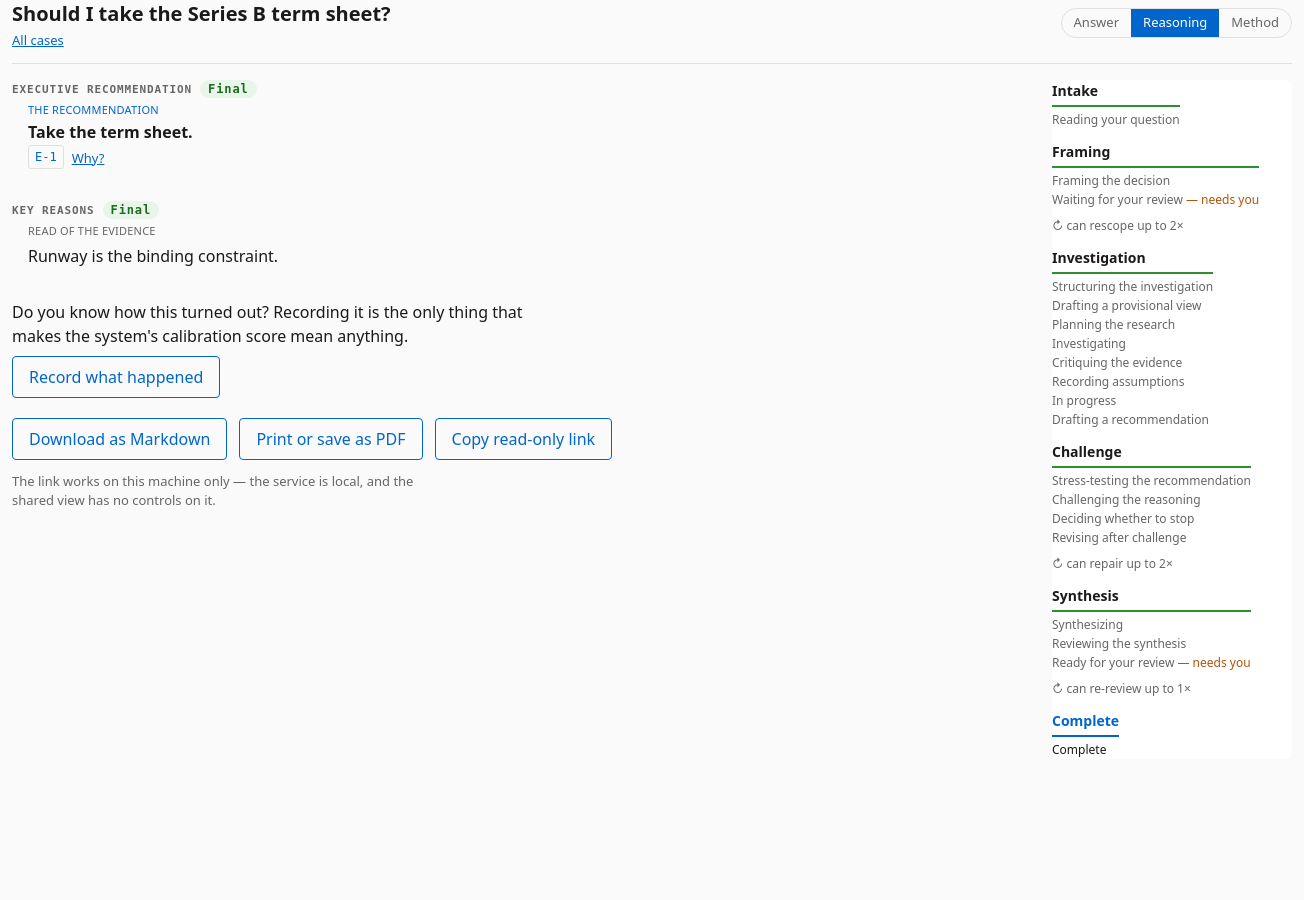
Scenario: altitude › adds the rooms at Method altitude
Check: the text "Take the term sheet." is shown, box 28,120 -> 193,142
Step 1. Click the button "Method" → (1255, 23), box 1219,9 -> 1291,36
(page scrolled)
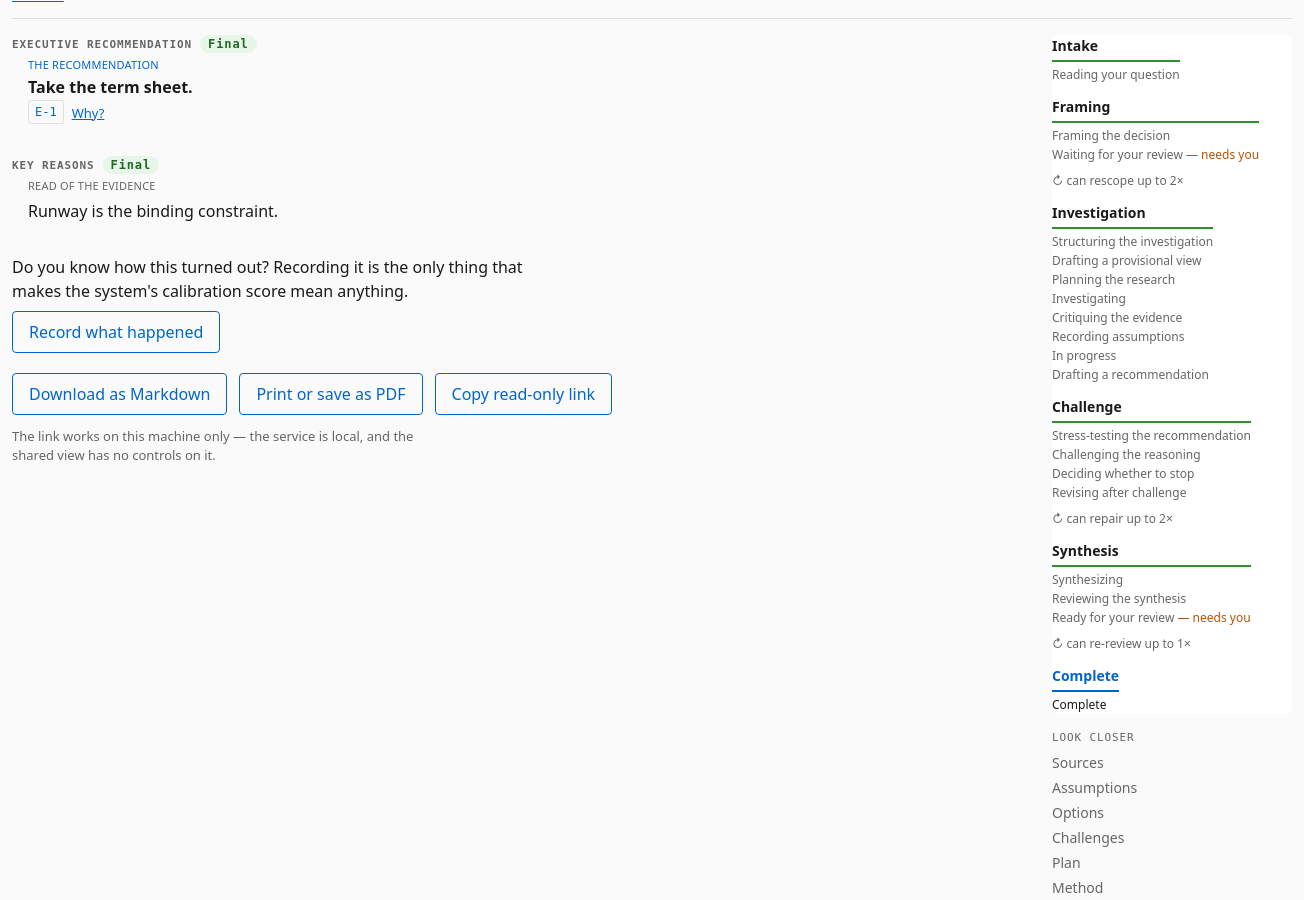
Check: the navigation bar named "Rooms" is shown, box 1052,730 -> 1137,897
